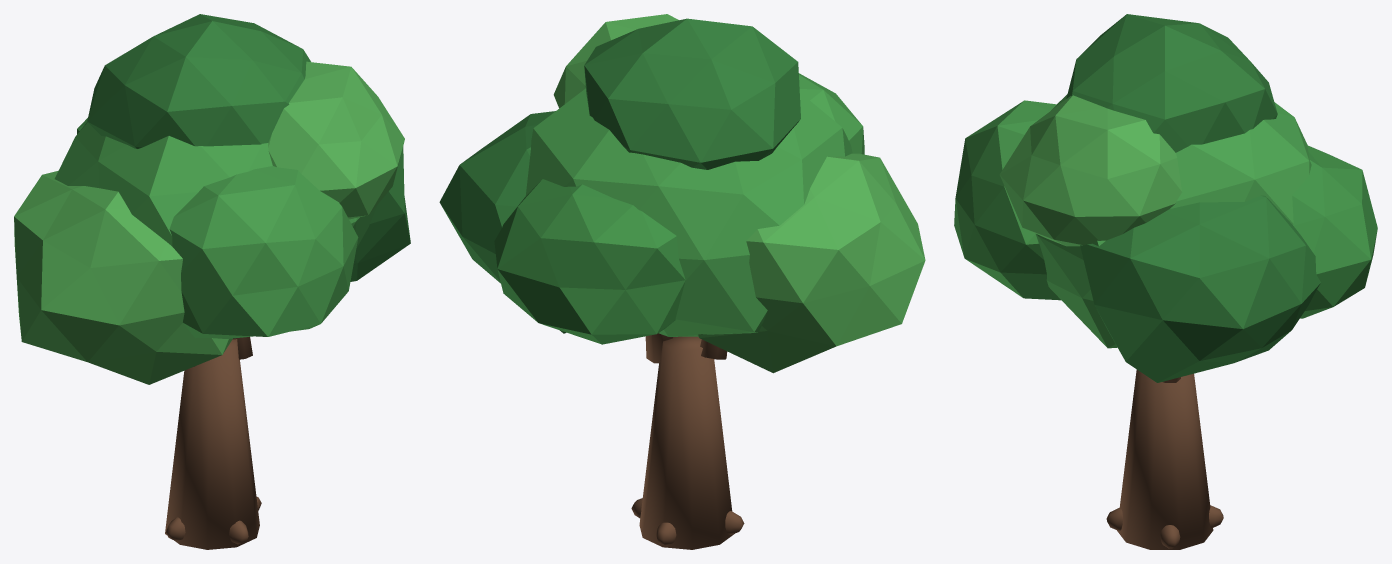
The model's file is oak2.glb.
3 renders of one model, left to right at view 1: azimuth 30°, elevation 25°; view 2: azimuth 150°, elevation 25°; view 3: azimuth 270°, elevation 25°, orthographic.
Parts seen in each view (by area): view 1: Crown, Trunk; view 2: Crown, Trunk; view 3: Crown, Trunk.
Part boxes in pixels (bbox=[...]): Crown: bbox=[14, 14, 410, 384]; Trunk: bbox=[165, 337, 261, 549]; Crown: bbox=[439, 14, 925, 373]; Trunk: bbox=[631, 333, 744, 549]; Crown: bbox=[954, 14, 1377, 382]; Trunk: bbox=[1106, 369, 1223, 549].
Size of the model in its own units: 4.11 by 4.85 by 3.69.
